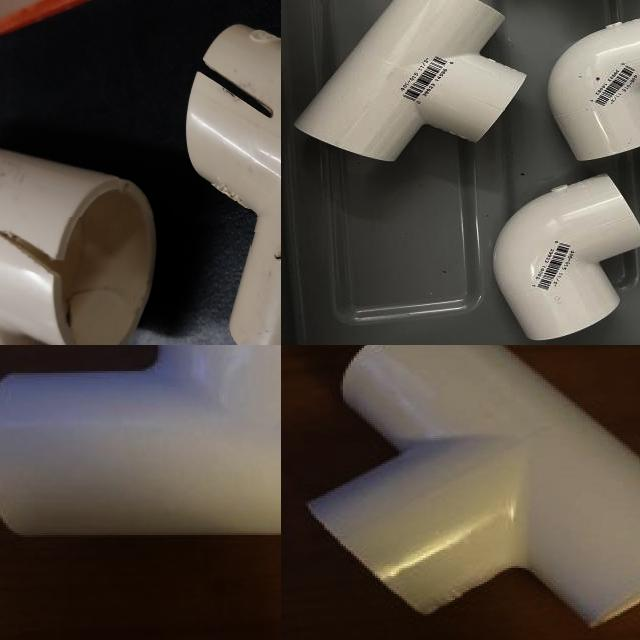Defective: (143, 0, 183, 68), (251, 248, 281, 334)
L Joint: (492, 173, 640, 341), (546, 18, 640, 163)
T Joint: (305, 345, 640, 630), (0, 345, 281, 540), (294, 0, 526, 166), (30, 0, 226, 181), (52, 218, 281, 345)
